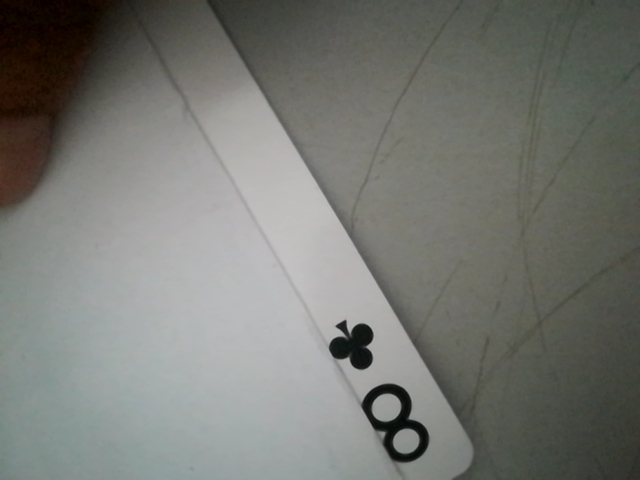mh 8: (320, 311, 456, 475)
